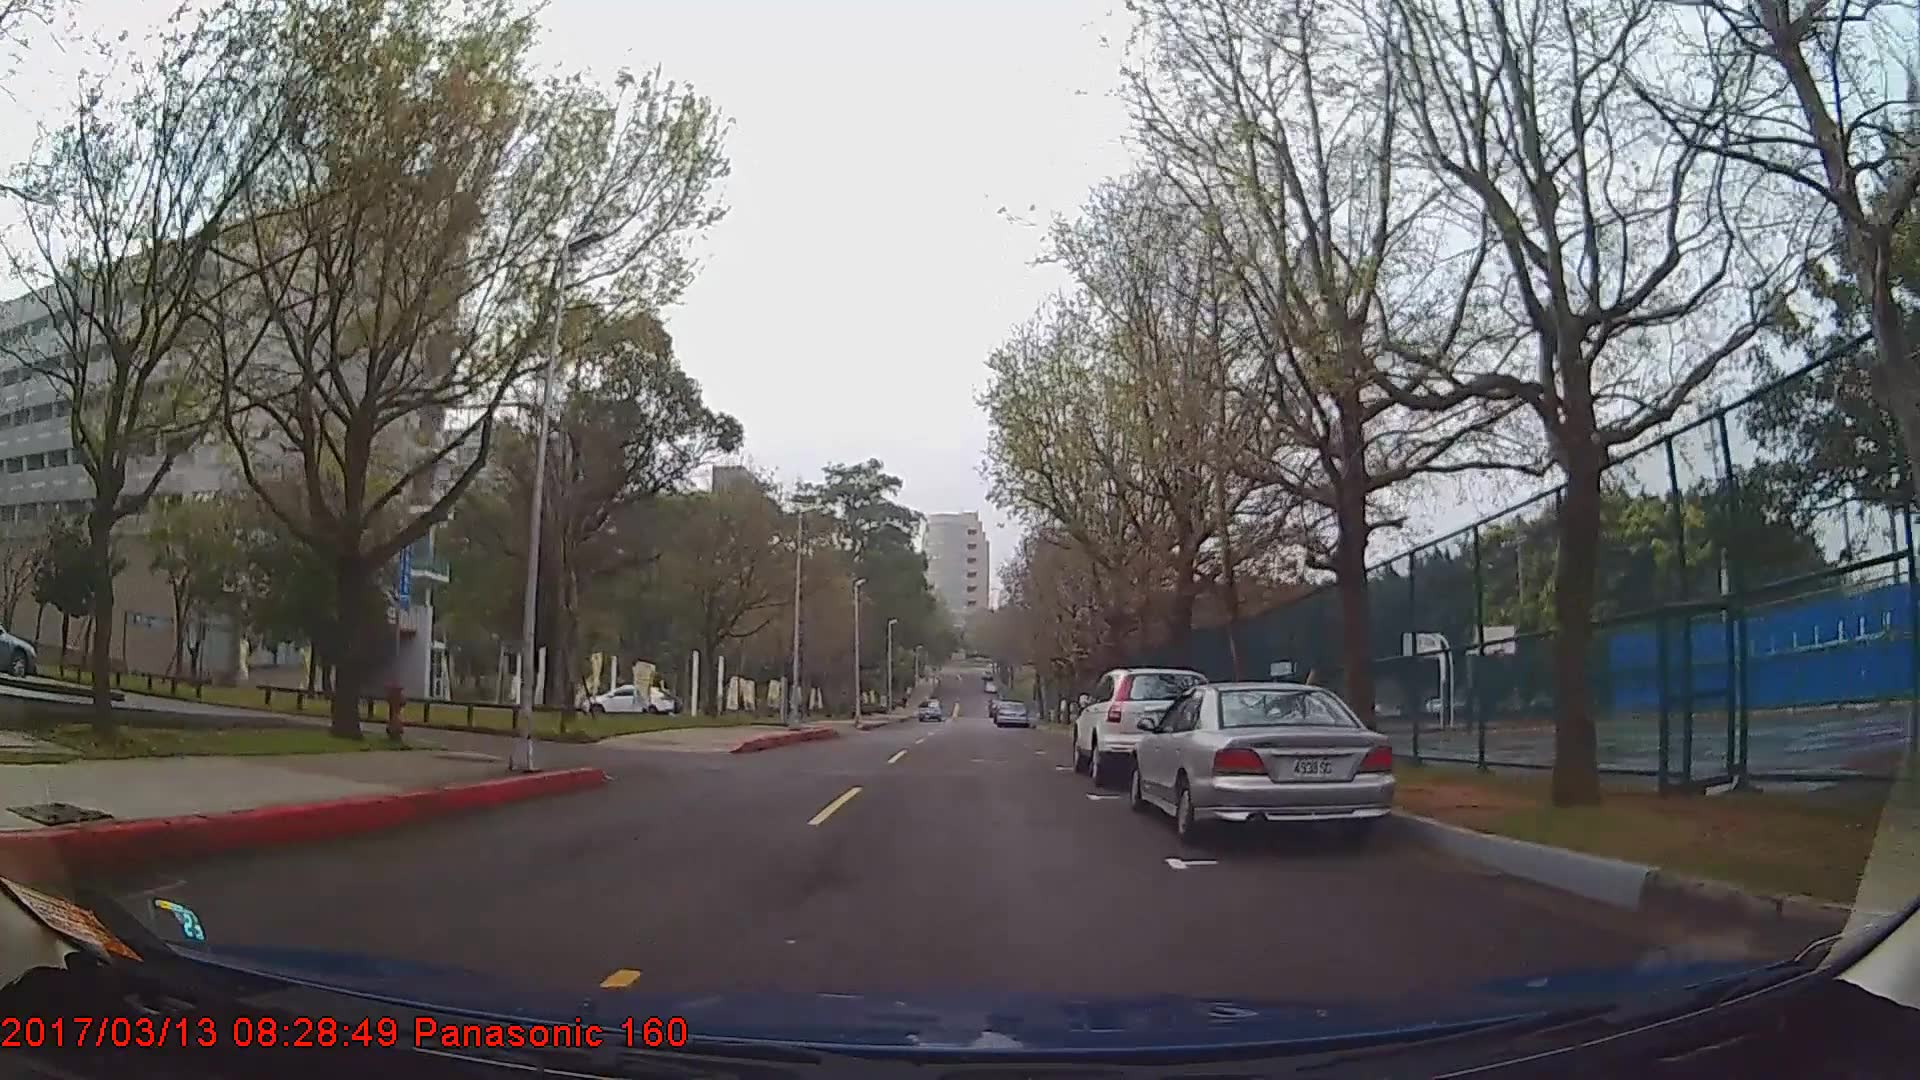vehicle: (1130, 680, 1393, 847), (1072, 667, 1215, 785), (580, 683, 676, 717), (0, 624, 38, 680), (992, 700, 1029, 728)
